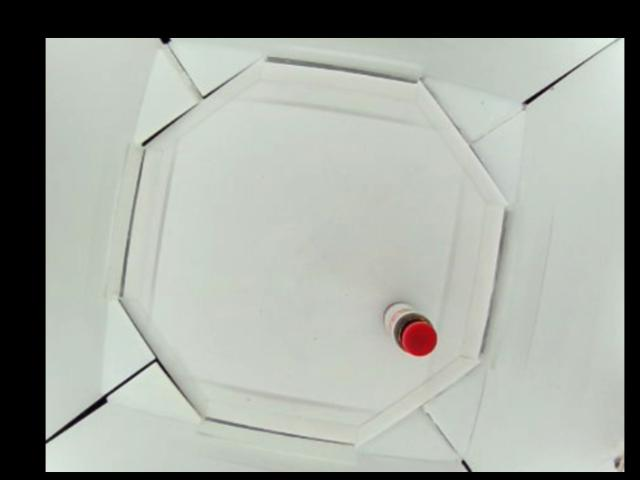Medicine: (382, 304, 436, 356)
